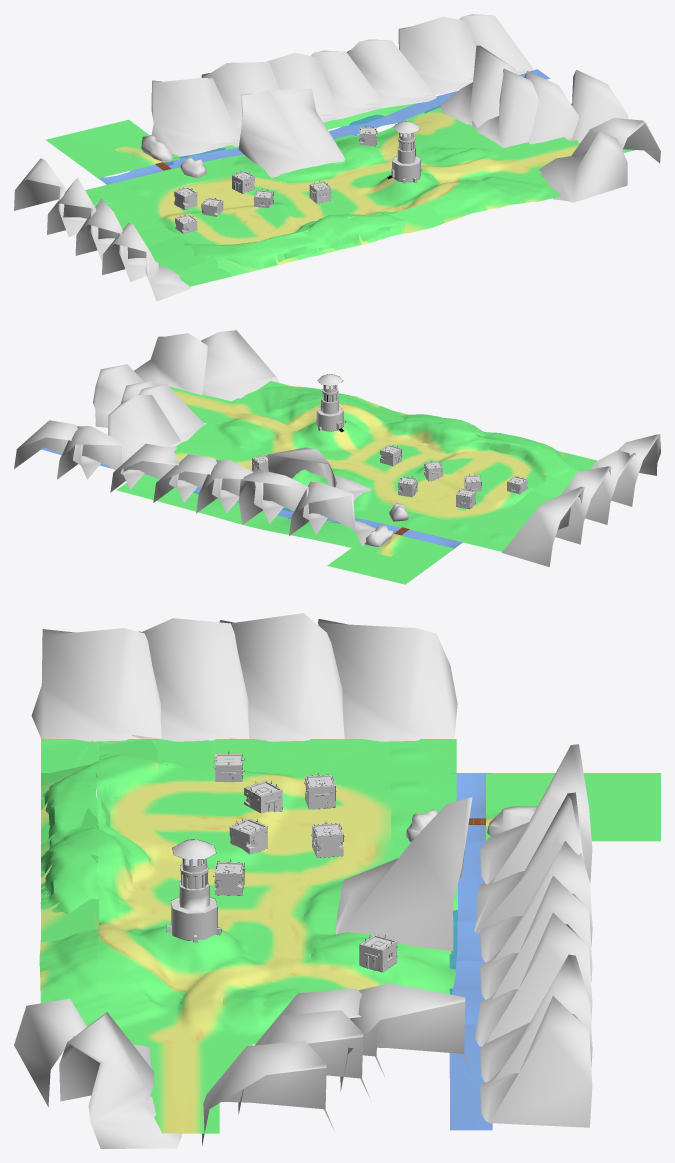
Rendered from Blockout.fbx.
3 views of the same model, one above another, from view 1: azimuth 30°, elevation 25°; view 2: azimuth 150°, elevation 25°; view 3: azimuth 270°, elevation 25° (orthographic). The views are drawn at different scales.
Visible parts, largest first — view 1: Terrain, Montain.010, Montain.001, Montain.006, Montain, Montain.005, Montain.012, Montain.004, Waters, Montain.002, Montain.011, Montain.017 (+15 smaller); view 2: Terrain, Montain, Montain.018, Montain.014, Montain.011, Montain.002, Montain.001, Montain.010, Montain.005, Montain.017, Montain.003, Montain.007 (+13 smaller); view 3: Terrain, Montain.014, Montain.017, Montain.010, Montain.015, Montain.016, Montain.018, Montain.007, Waters, Montain.020, Montain.011, Montain.001 (+18 smaller).
Part boxes in pixels (box(x1,y1,x2,y2)): Terrain: box(45, 103, 635, 286); Montain.010: box(238, 88, 344, 177); Montain.001: box(151, 78, 239, 156); Montain.006: box(398, 16, 476, 96); Montain: box(539, 131, 627, 202); Montain.005: box(347, 39, 436, 108); Montain.012: box(472, 68, 538, 147); Montain.004: box(311, 50, 383, 119); Waters: box(98, 69, 549, 184); Montain.002: box(201, 62, 279, 146); Montain.011: box(440, 45, 517, 127); Montain.017: box(102, 222, 191, 301); Terrain: box(116, 381, 597, 584); Montain: box(201, 330, 279, 401); Montain.018: box(134, 333, 207, 395); Montain.014: box(501, 486, 584, 566); Montain.011: box(108, 395, 180, 462); Montain.002: box(239, 468, 327, 534); Montain.001: box(289, 481, 375, 546); Montain.010: box(267, 447, 371, 499); Montain.005: box(110, 443, 197, 502); Montain.017: box(611, 434, 660, 506); Montain.003: box(196, 460, 283, 523); Montain.007: box(14, 420, 101, 478); Terrain: box(39, 739, 660, 1133); Montain.014: box(318, 619, 457, 741); Montain.017: box(31, 628, 161, 741); Montain.010: box(335, 797, 472, 951); Montain.015: box(219, 613, 344, 741); Montain.016: box(132, 618, 249, 741); Montain.018: box(59, 1012, 181, 1148); Montain.007: box(480, 996, 592, 1127); Waters: box(449, 773, 492, 1130); Montain.020: box(202, 1041, 334, 1145); Montain.011: box(340, 983, 471, 1080); Montain.001: box(480, 744, 592, 884).
Size of the model in its own units: 142 by 20.17 by 88.73.
